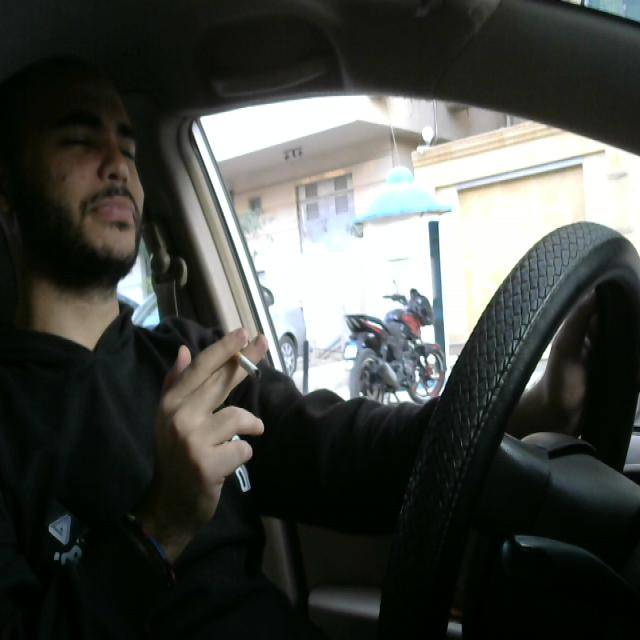smoking: (214, 340, 267, 386)
